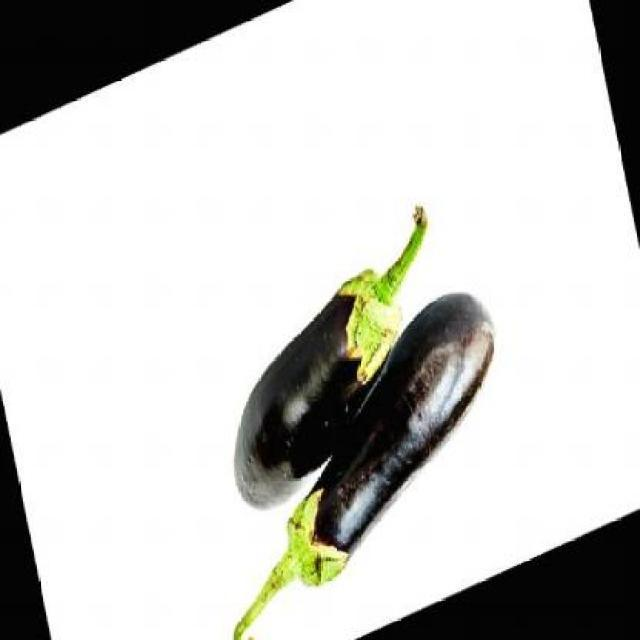eggplant: (214, 289, 501, 640), (226, 204, 434, 512)
